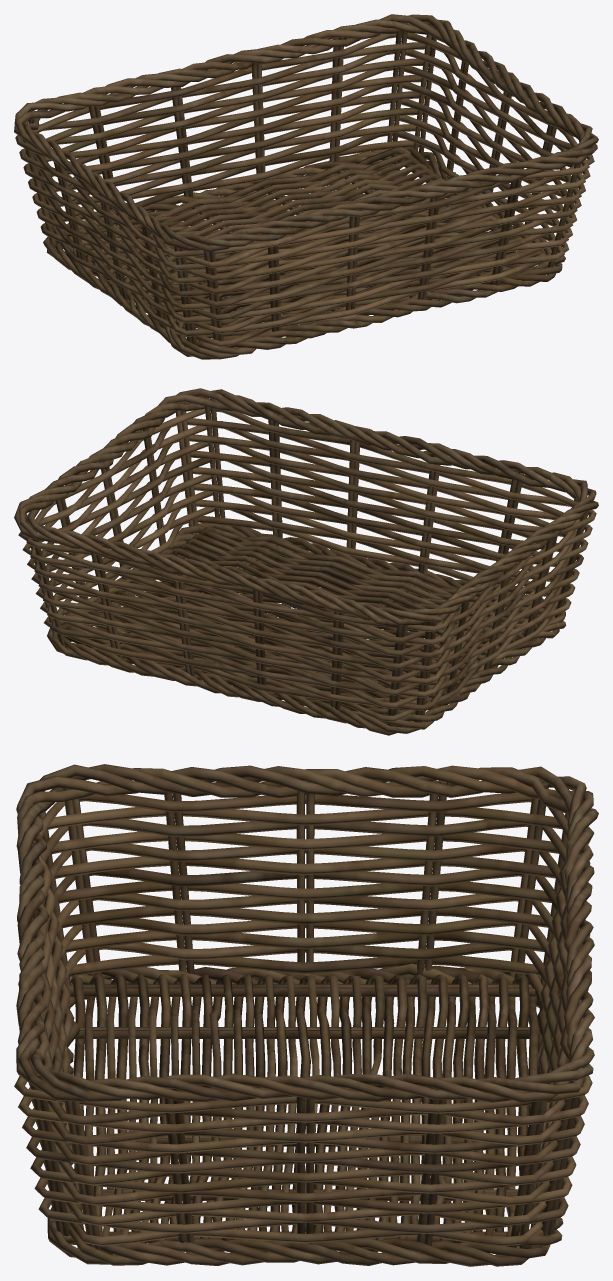
File: wicker_basket_01.glb
3 renders of one model, top to bottom at view 1: azimuth 30°, elevation 25°; view 2: azimuth 150°, elevation 25°; view 3: azimuth 270°, elevation 25°, orthographic. The views are drawn at different scales.
Parts seen in each view (by area): view 1: wicker_basket_01; view 2: wicker_basket_01; view 3: wicker_basket_01.
Boxes of the visible parts, <box> form: wicker_basket_01: <box>14,14,598,359</box>; wicker_basket_01: <box>14,388,598,735</box>; wicker_basket_01: <box>14,764,598,1266</box>.
Size of the model in its own units: 0.3832 by 0.1174 by 0.295.
1 material, 1 textured.
